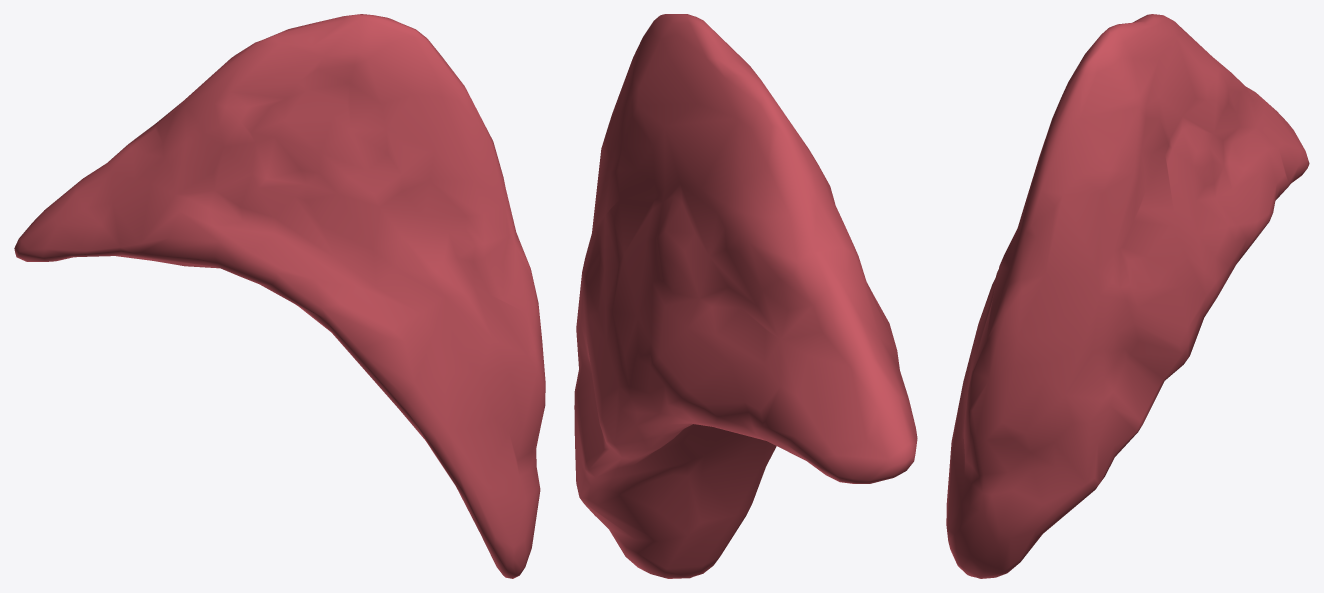
Rendered from visceras-suprarenal-gland-r.glb.
3 views of the same model, side by side, from view 1: azimuth 30°, elevation 25°; view 2: azimuth 150°, elevation 25°; view 3: azimuth 270°, elevation 25° (orthographic). The views are drawn at different scales.
Visible parts, largest first — view 1: Suprarenal gland.r; view 2: Suprarenal gland.r; view 3: Suprarenal gland.r.
Boxes of the visible parts, <box> form: Suprarenal gland.r: <box>14,14,545,578</box>; Suprarenal gland.r: <box>574,14,917,578</box>; Suprarenal gland.r: <box>946,14,1309,578</box>.
Bounding box in the file's own units: 0.0319 × 0.0423 × 0.0272.
